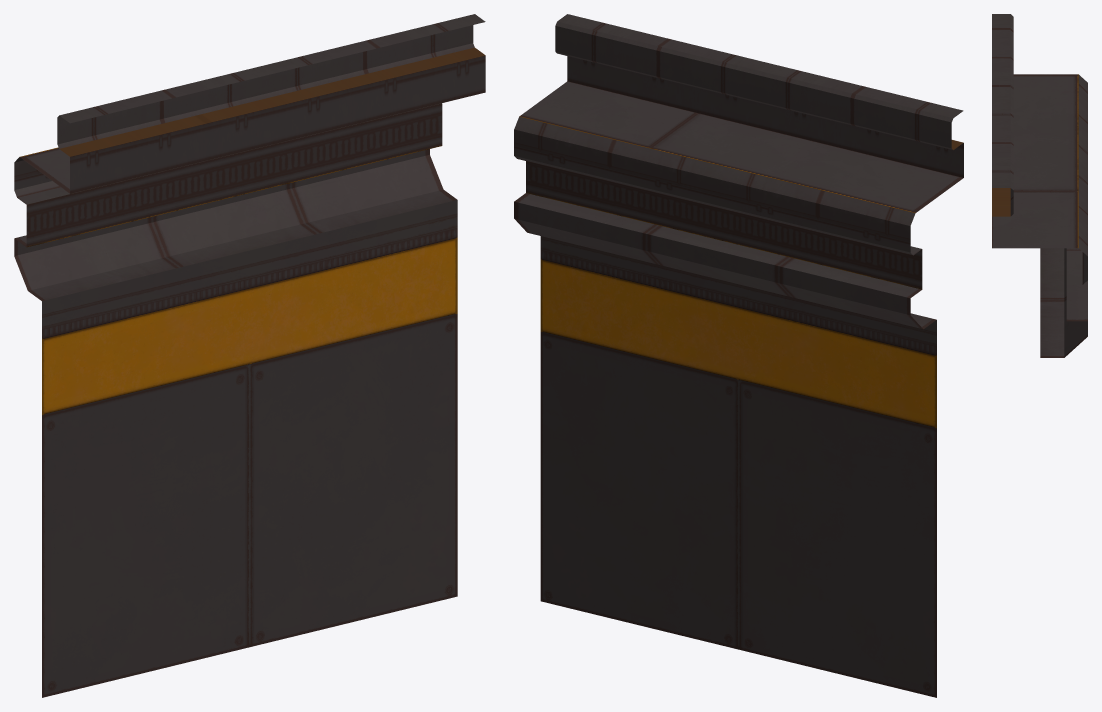
File: Gate.fbx
The picture shows the model from 3 angles, left to right: view 1: azimuth 30°, elevation 25°; view 2: azimuth 150°, elevation 25°; view 3: azimuth 270°, elevation 25°; orthographic projection. The views are drawn at different scales.
Visible parts, largest first — view 1: Gate; view 2: Gate; view 3: Gate.
Part boxes in pixels (x1=…): Gate: x1=14, y1=14, x2=485, y2=697; Gate: x1=514, y1=14, x2=963, y2=697; Gate: x1=992, y1=14, x2=1087, y2=357.
Size of what is drawn, in the model's own units: 14.03 by 3.27 by 19.2.
